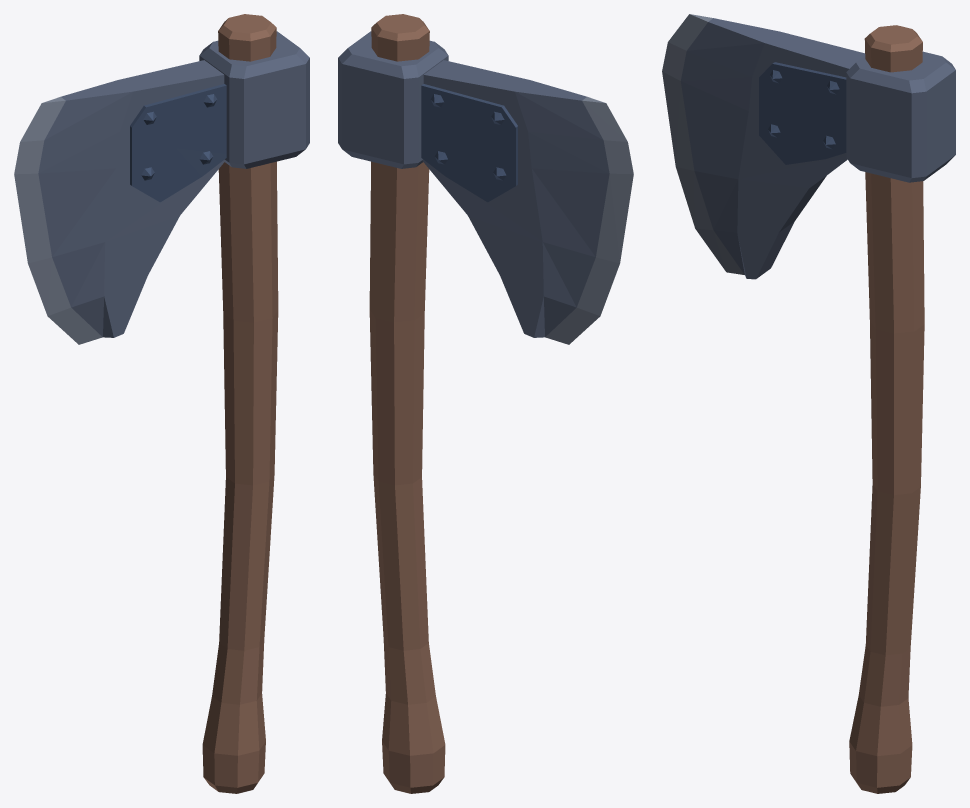
The model's file is axe-b545d6.glb.
The picture shows the model from 3 angles, left to right: view 1: azimuth 30°, elevation 25°; view 2: azimuth 150°, elevation 25°; view 3: azimuth 330°, elevation 25°; orthographic projection.
Parts seen in each view (by area): view 1: axe-metal, axe-matte; view 2: axe-metal, axe-matte; view 3: axe-metal, axe-matte.
Boxes of the visible parts, left/top/right/bottom form: axe-metal: left=14, top=31, right=309, bottom=344; axe-matte: left=202, top=14, right=278, bottom=793; axe-metal: left=338, top=31, right=633, bottom=344; axe-matte: left=369, top=14, right=445, bottom=793; axe-metal: left=662, top=14, right=955, bottom=279; axe-matte: left=849, top=25, right=924, bottom=793.
Bounding box in the file's own units: 0.2718 × 0.7 × 0.068.
